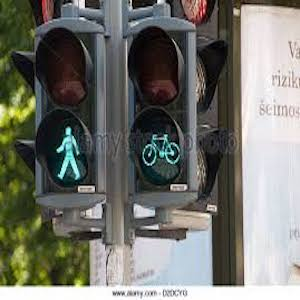green: (47, 125, 96, 180), (135, 125, 180, 171)
